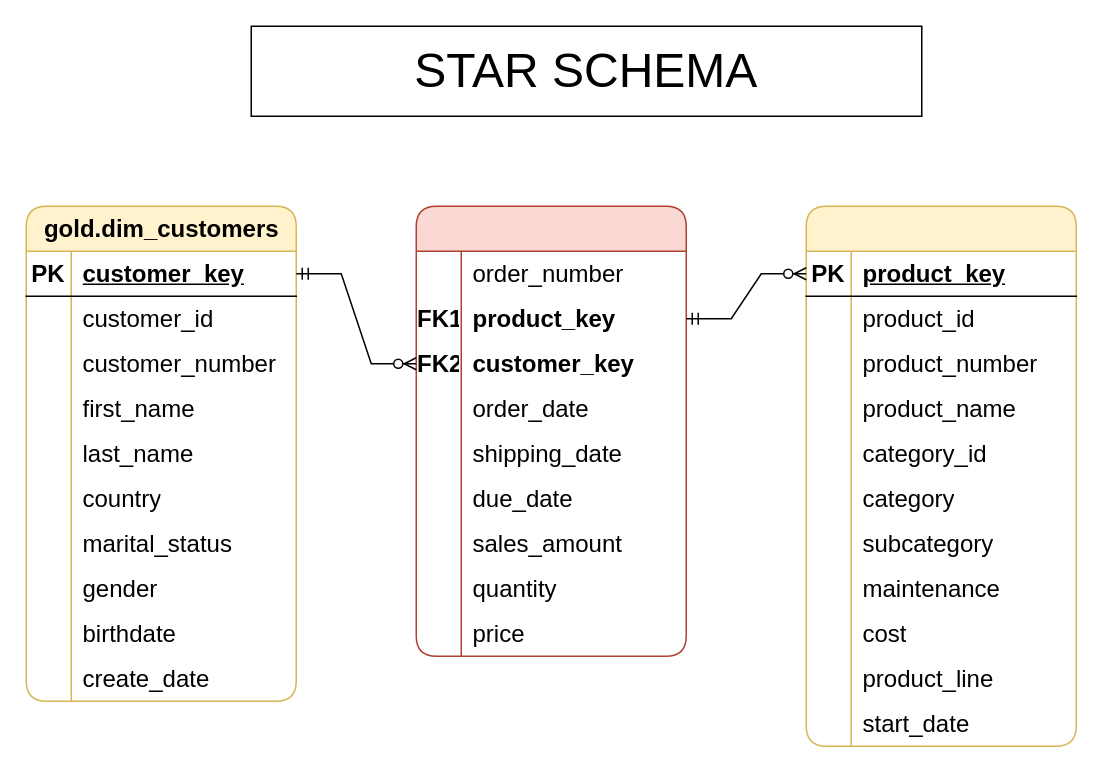
The diagram is 1103 pixels wide and 773 high, and some of its shapes have lost their labels. Here are the shapes that lost their labels. From the top down, the box of each, then its label:
(415, 205, 686, 656): gold.fact_sales
(805, 205, 1076, 746): gold.dim_products
